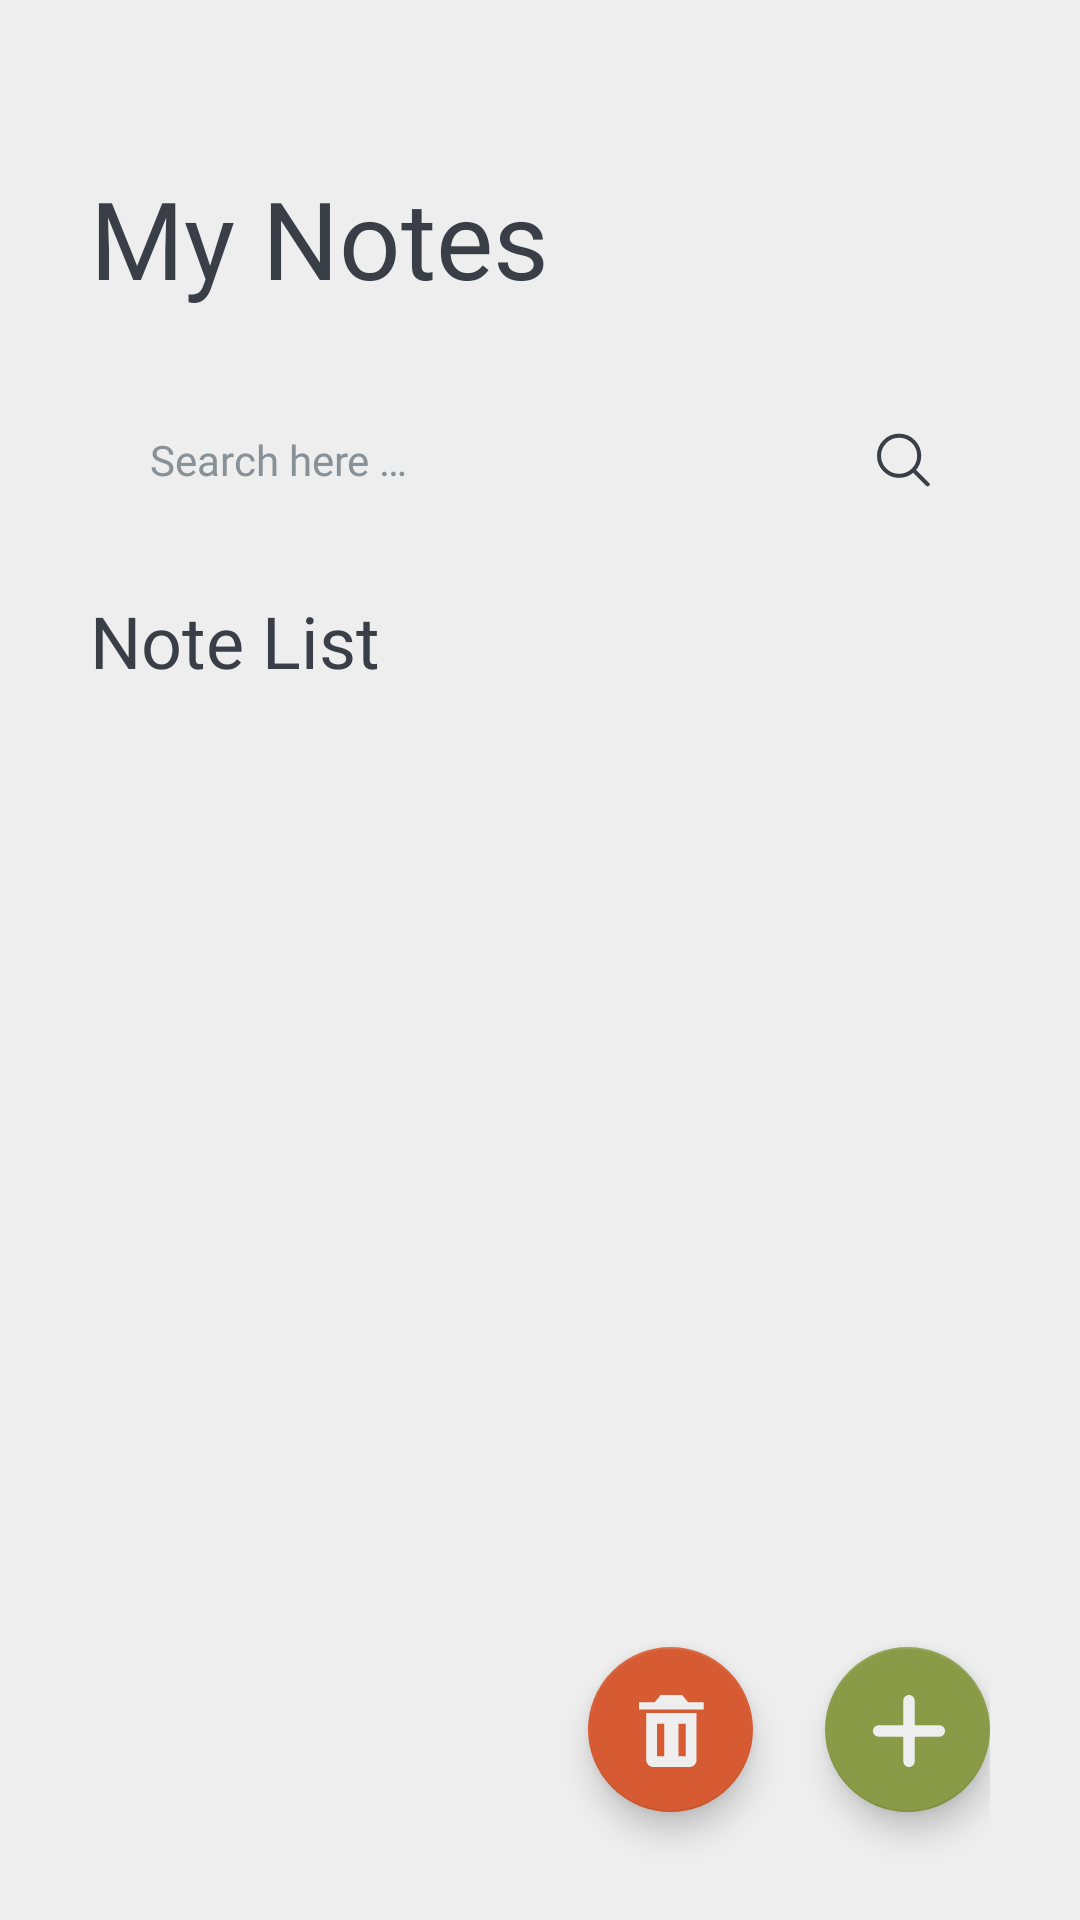

Where to tap for icons on this 1080x1920 app screen, as [x,y]:
add: [907,1729]
trash: [670,1729]
